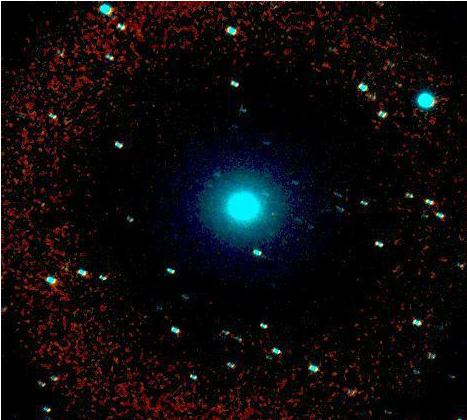star: (255, 199, 285, 229)
